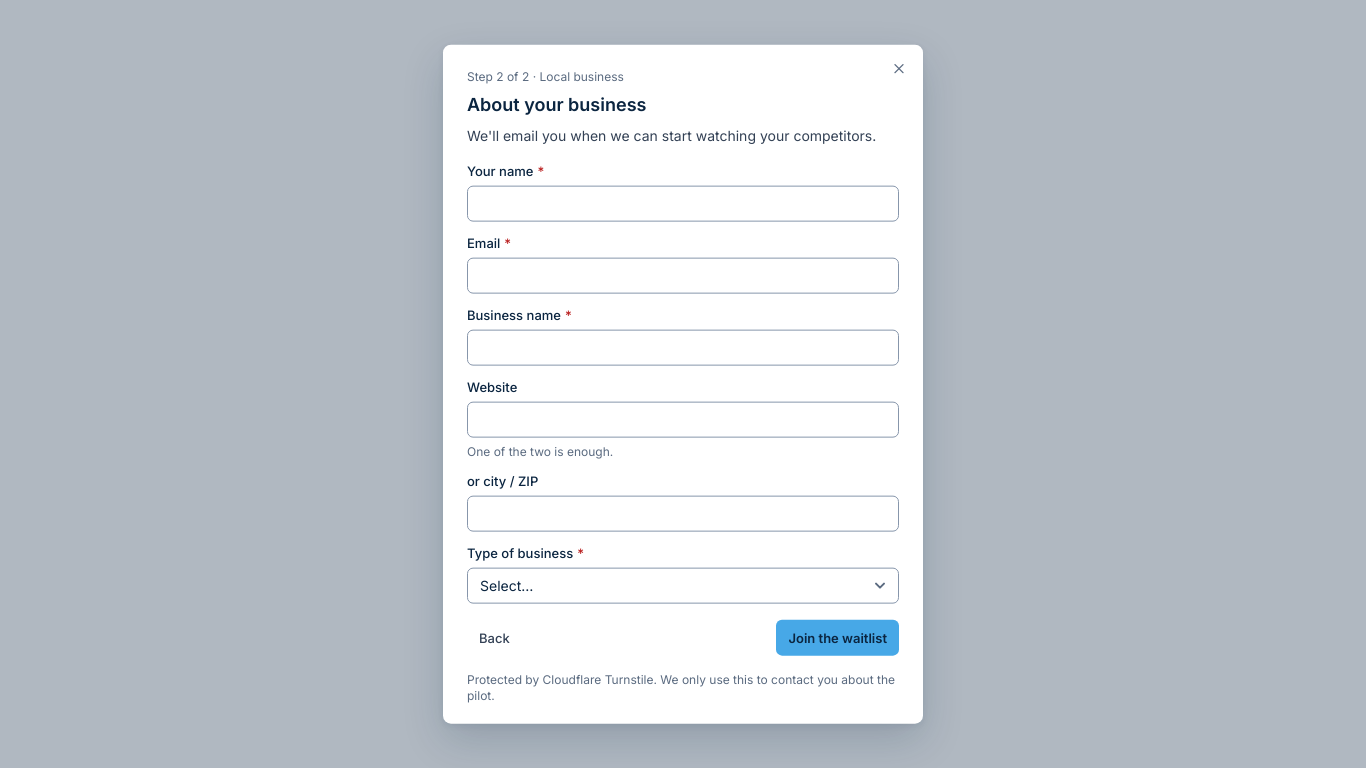
Test: join dialog › a throwing submit shows a generic error and re-enables the button
In the field labelled "Your name *": (683, 203) left=467, top=185, right=899, bottom=221, type "Sam Roe"
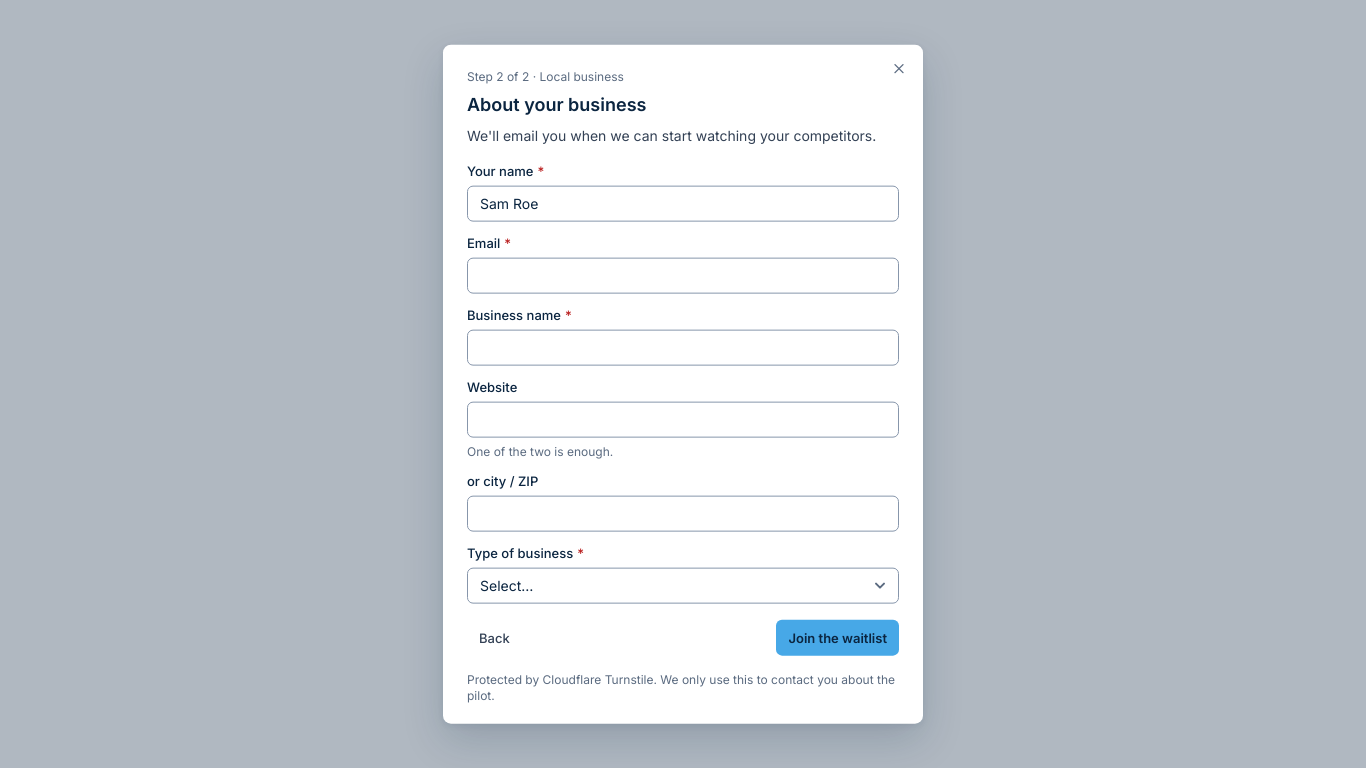
In the field labelled "Email *": (683, 275) left=467, top=257, right=899, bottom=293, type "sam@roe.test"
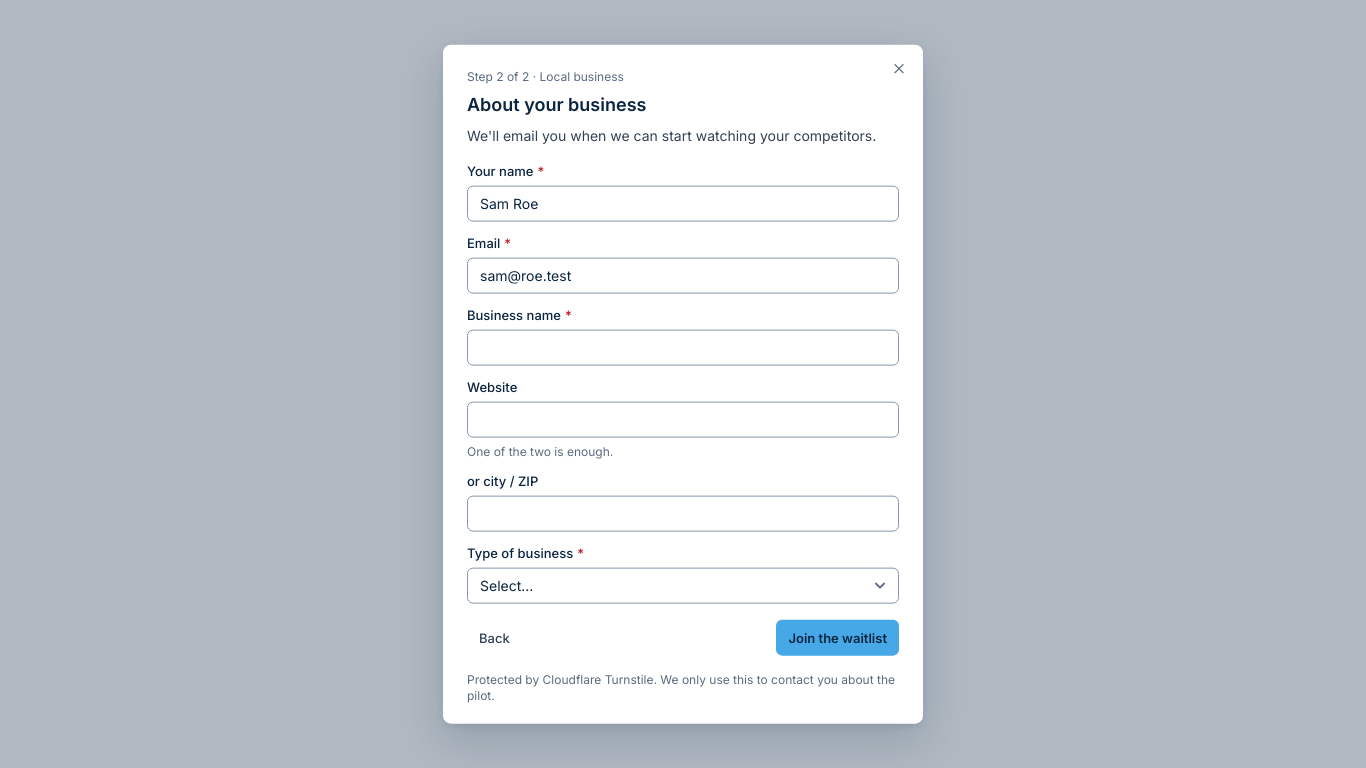
In the field labelled "Business name *": (683, 347) left=467, top=329, right=899, bottom=365, type "Roe Heating"
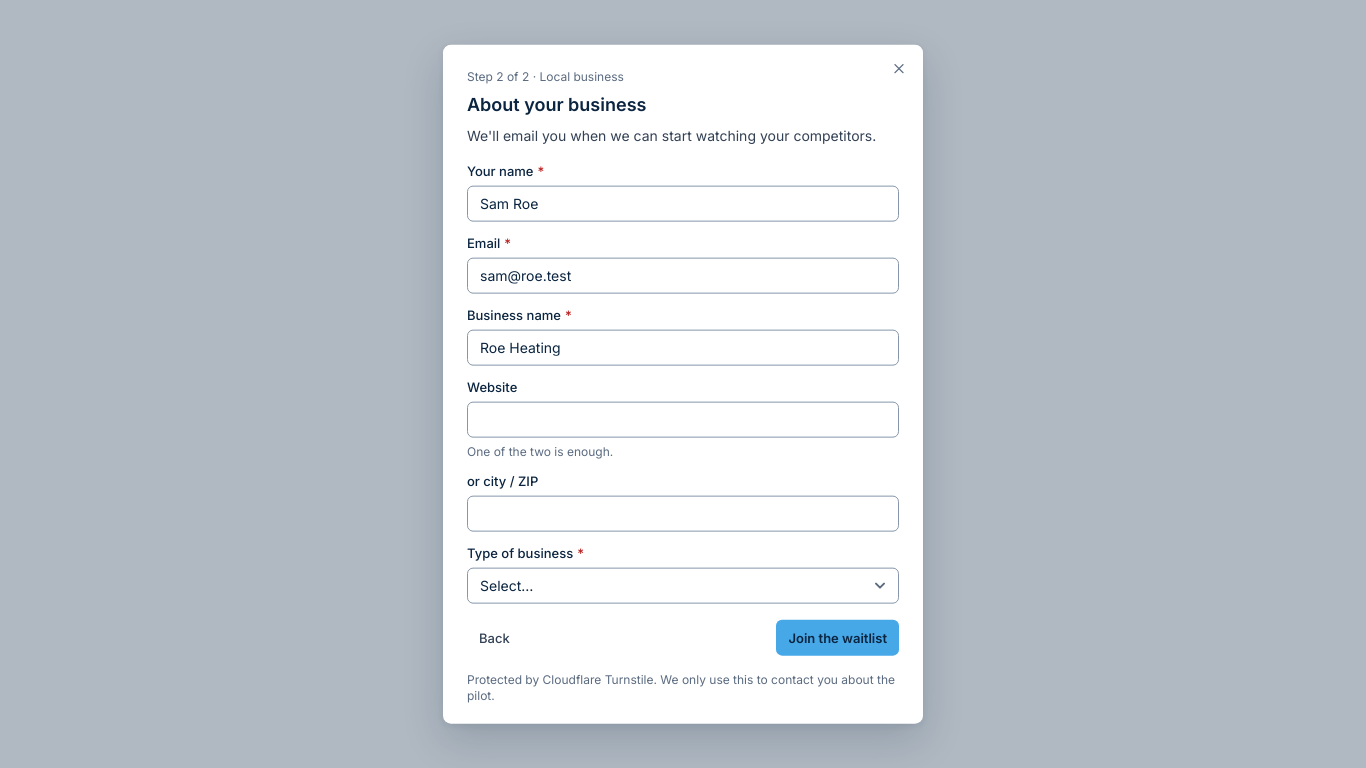
In the field labelled "or city / ZIP": (683, 513) left=467, top=495, right=899, bottom=531, type "Austin"
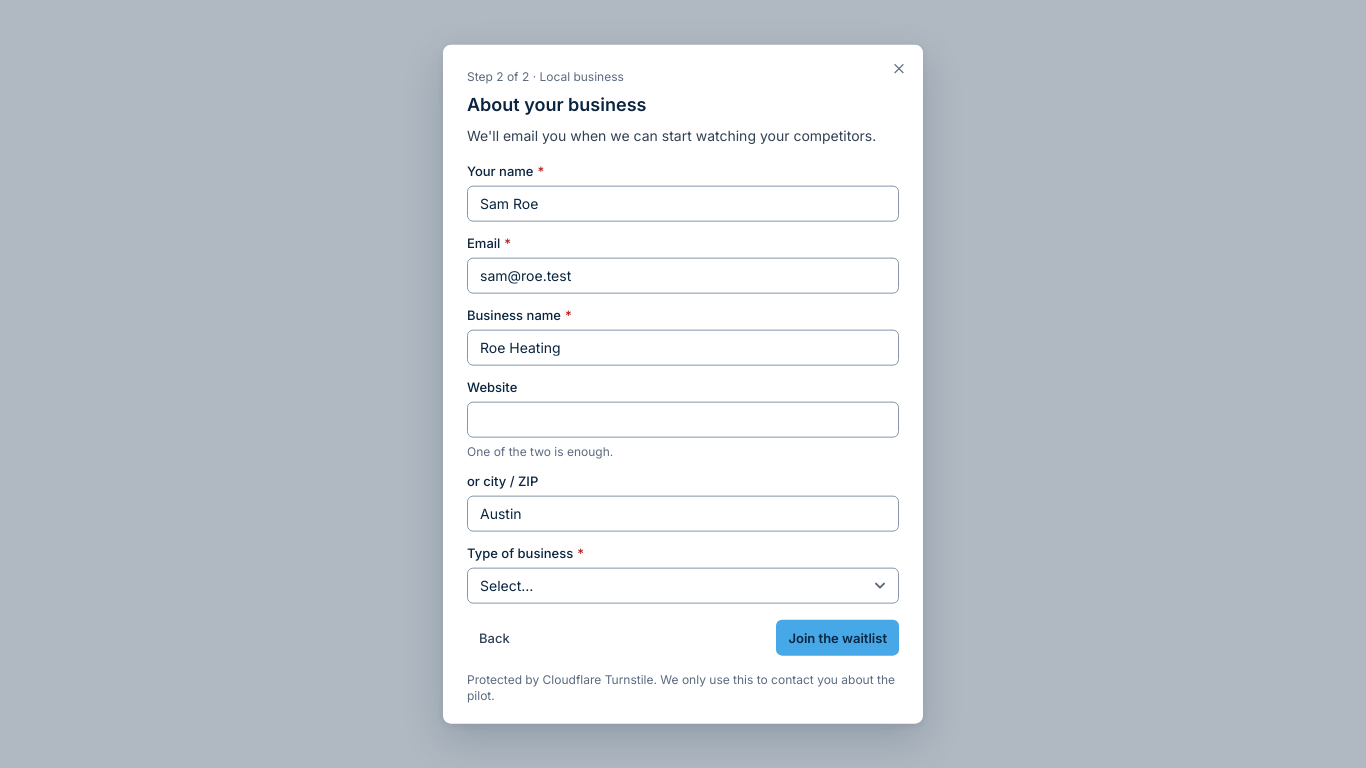
Select "Dental practices" in the dropdown labelled "Type of business *": (683, 585) left=467, top=567, right=899, bottom=603
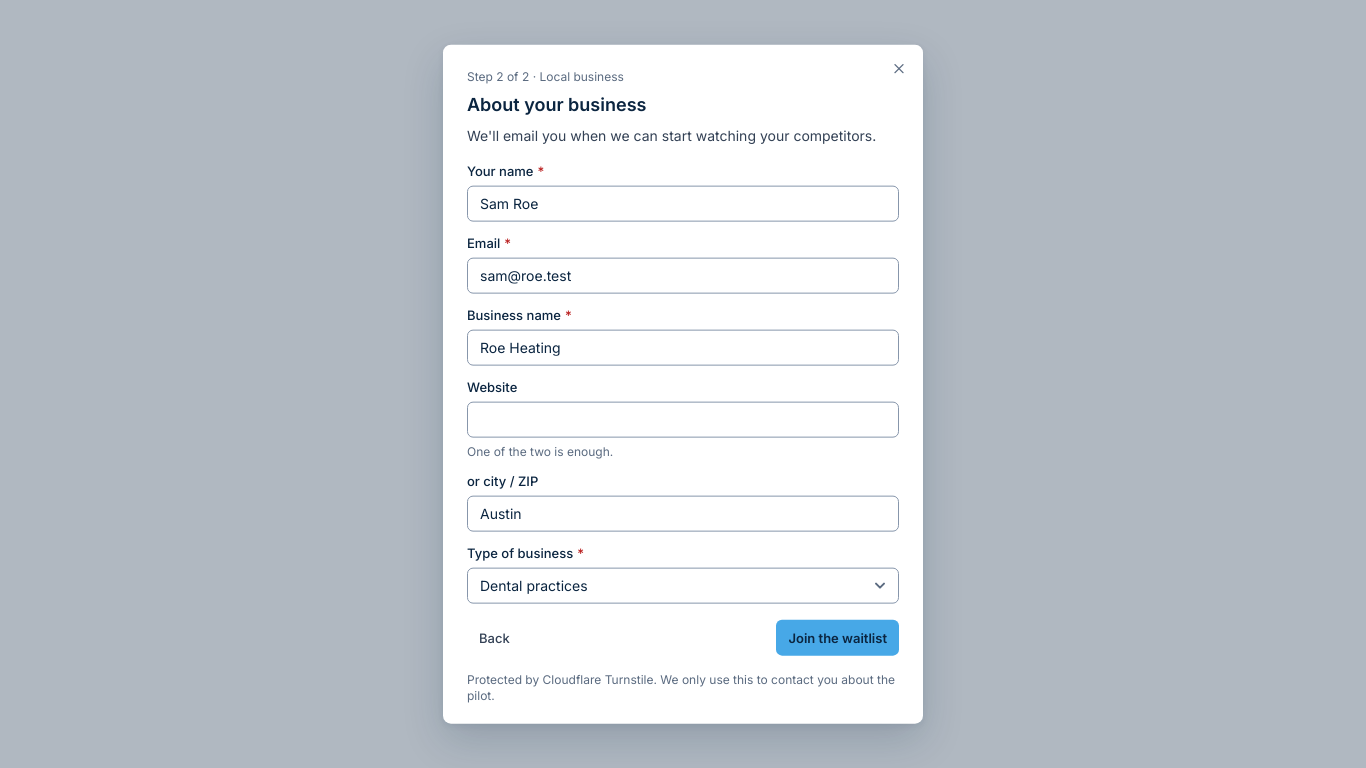
Click the button "Join the waitlist": (838, 637) left=776, top=619, right=899, bottom=655
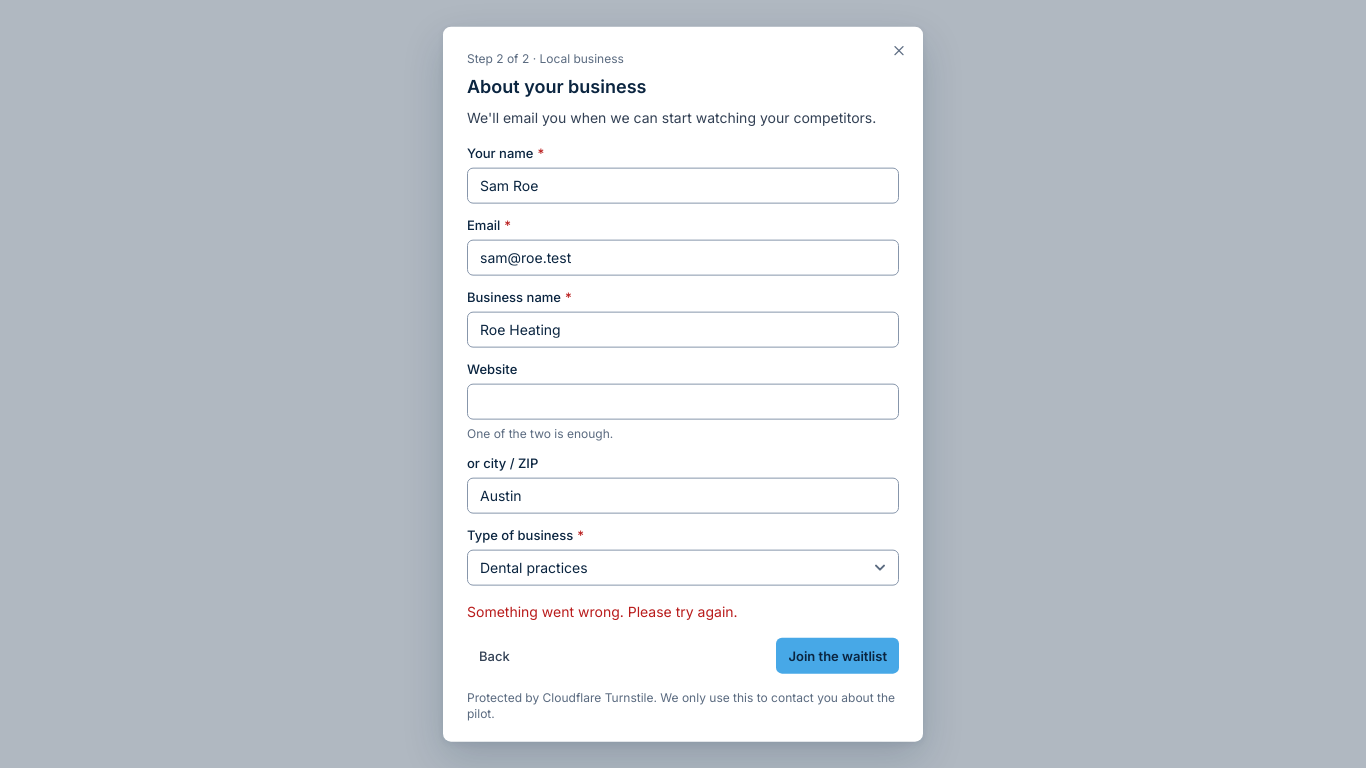
Expected: the button "Join the waitlist" is enabled, left=776, top=637, right=899, bottom=673
Expected: the message reads "Something went wrong. Please try again.", left=467, top=602, right=738, bottom=619
